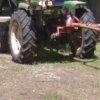Tractor: (6, 0, 100, 71)
